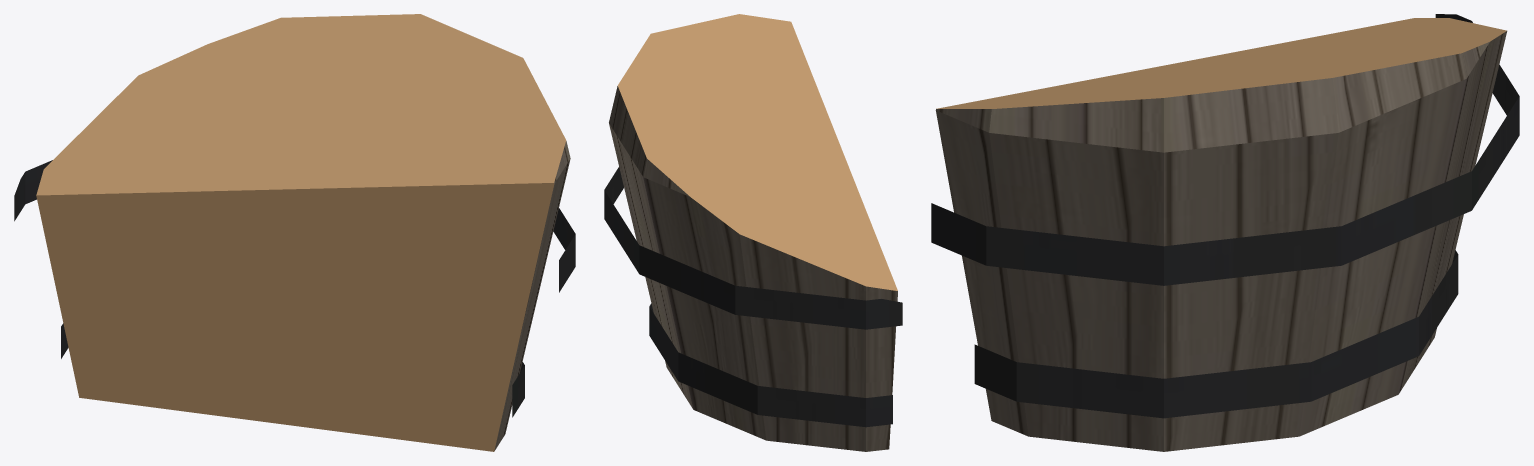
The model's file is barrel_01_shard_1.glb.
The picture shows the model from 3 angles, left to right: view 1: azimuth 30°, elevation 25°; view 2: azimuth 150°, elevation 25°; view 3: azimuth 270°, elevation 25°; orthographic projection. The views are drawn at different scales.
Parts seen in each view (by area): view 1: barrel_01_shard_1; view 2: barrel_01_shard_1; view 3: barrel_01_shard_1.
Part boxes in pixels (box(x1,y1,x2,y2)): barrel_01_shard_1: box(14, 14, 575, 451); barrel_01_shard_1: box(604, 14, 902, 451); barrel_01_shard_1: box(931, 14, 1519, 451).
Bounding box in the file's own units: 0.6521 × 0.4839 × 0.6732.
3 materials, 2 textured.
